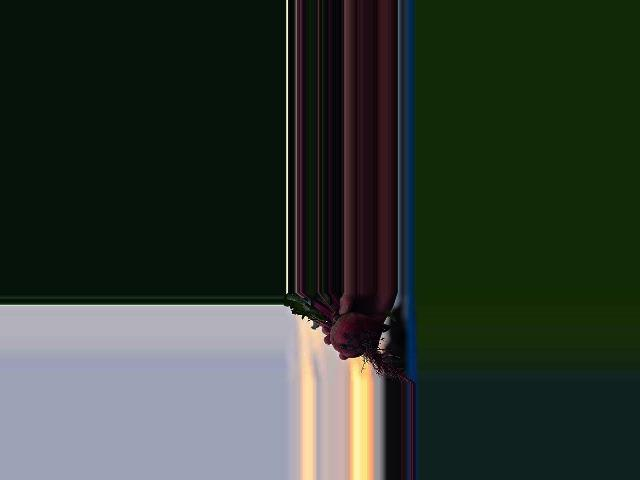beet: (283, 293, 413, 384)
